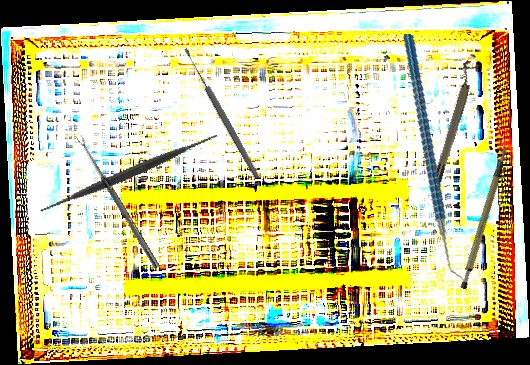Chopper: (367, 33, 505, 283)
Fixation Ring: (424, 59, 482, 189)
Scalpel Handle: (442, 146, 530, 291)
Spatula Surgical: (29, 73, 228, 273)
Surgical Spoon: (76, 134, 161, 269), (182, 46, 261, 180)
